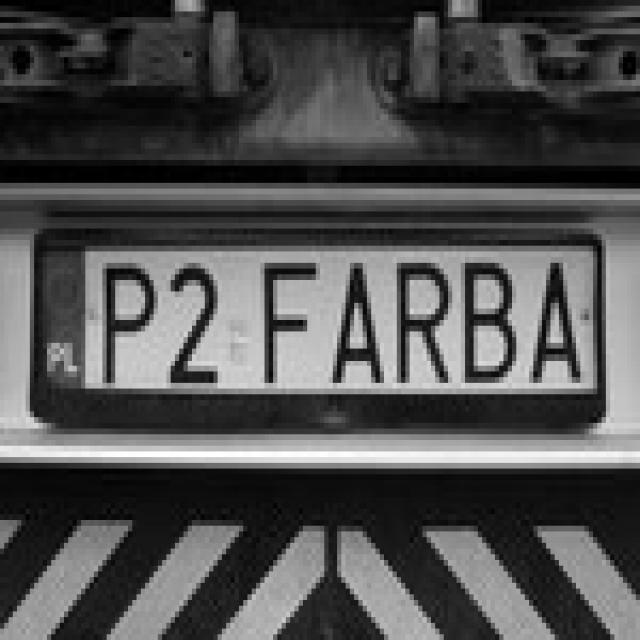License_Plate: (32, 230, 592, 406)
